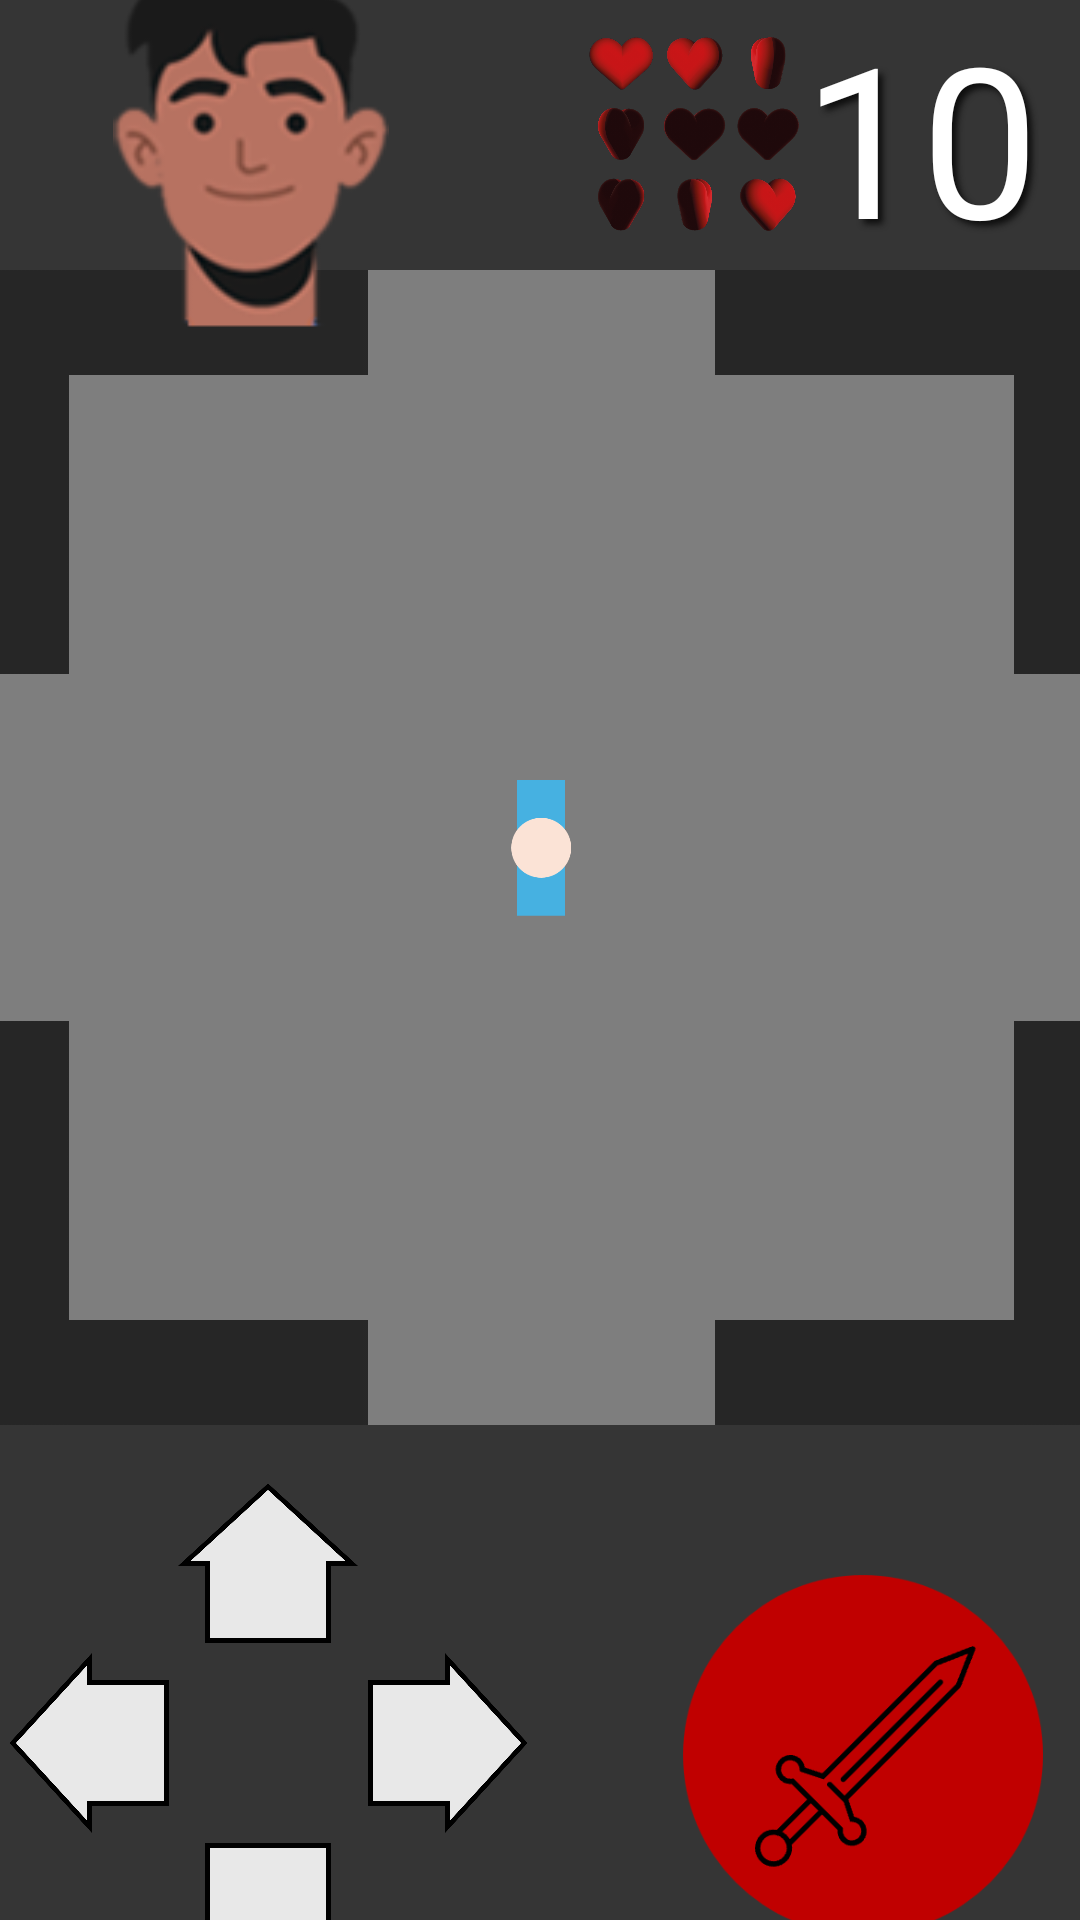

Point at icon controls on the screen. Image size 1080 × 1920, points as (x=x, y=y).
attaque: (x=863, y=1747)
coeur: (x=694, y=134)
